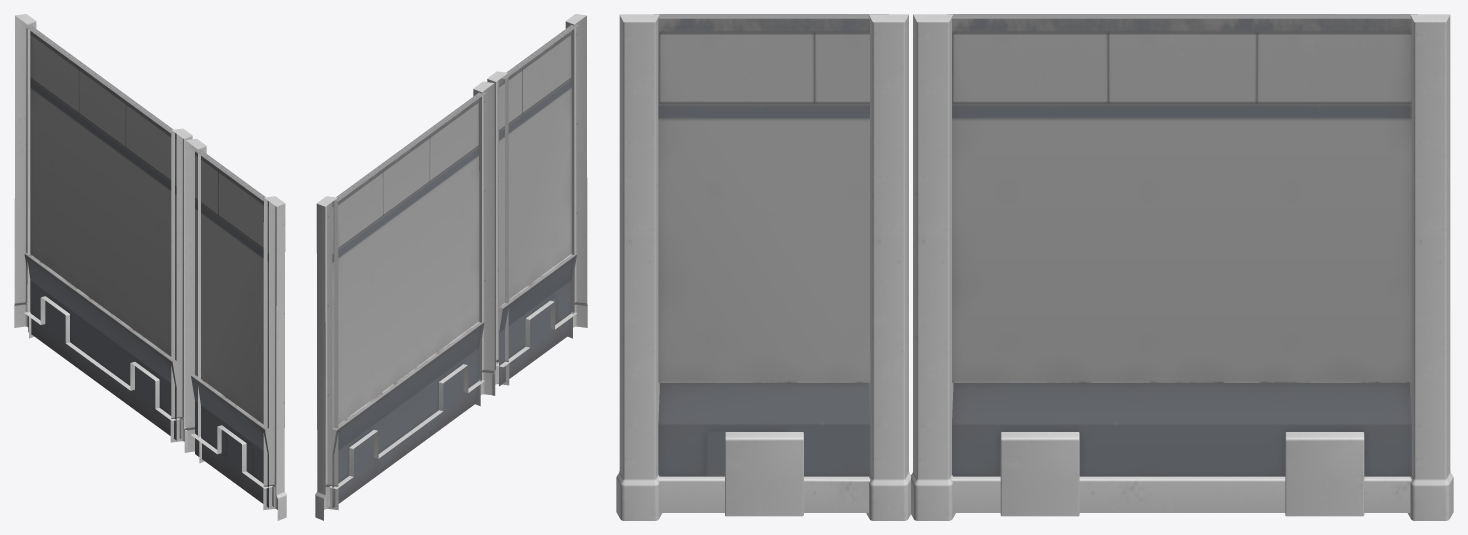
File: Pfb_JALB_WallPart2_Line__28.fbx
3 renders of one model, left to right at view 1: azimuth 30°, elevation 25°; view 2: azimuth 150°, elevation 25°; view 3: azimuth 270°, elevation 25°, orthographic. The views are drawn at different scales.
Visible parts, largest first — view 1: MAT_JLABWall; view 2: MAT_JLABWall; view 3: MAT_JLABWall.
Part boxes in pixels (x1,y1,x2,y2): MAT_JLABWall: [14, 14, 286, 520]; MAT_JLABWall: [315, 14, 587, 520]; MAT_JLABWall: [616, 14, 1453, 520].
Size of the model in its own units: 0.2091 by 4.04 by 6.16.
1 material, 1 textured.
